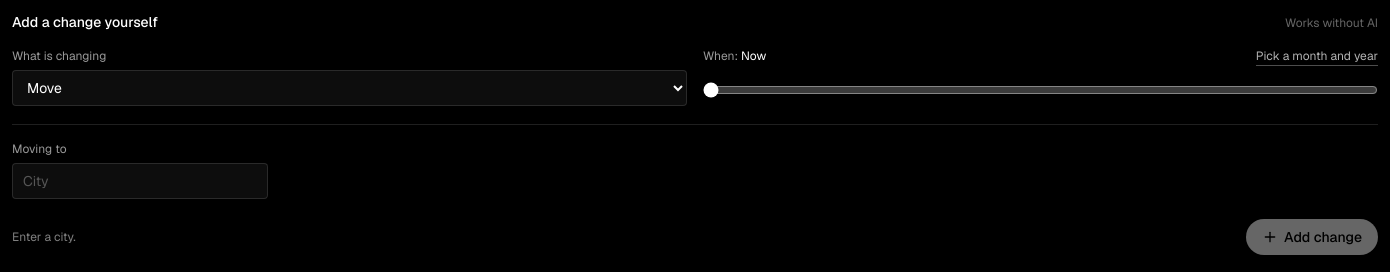
ManualEventForm: choosing a date as a month and year › says why a month cannot be used, and will not add it
The width and height of the screenshot is (1390, 272).
Type "Denver" into the field labelled "Moving to".
click(140, 181); type("Denver")  # box top-left (12, 163), bottom-right (268, 199)
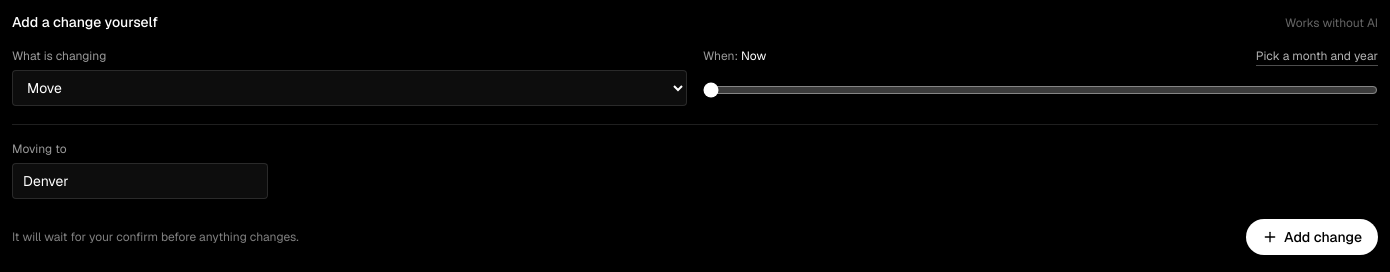
Click the button "Pick a month and year".
click(1317, 57)  # box top-left (1256, 48), bottom-right (1378, 66)
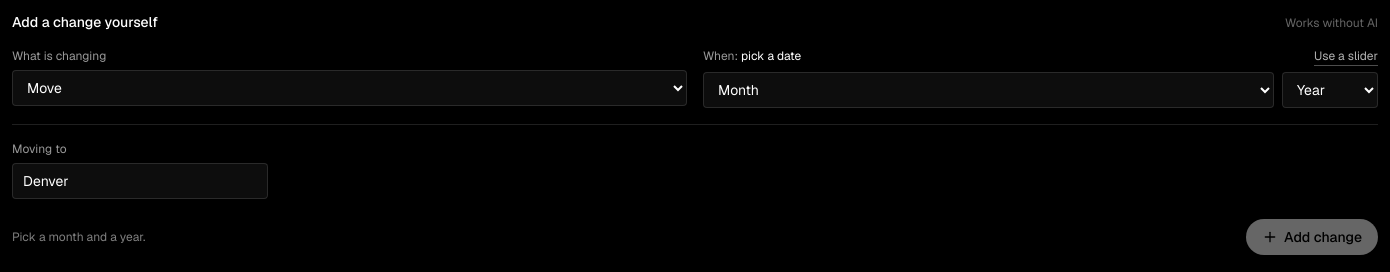
Select "September" in the dropdown named "Month" at (988, 90), box top-left (703, 72), bottom-right (1274, 108)
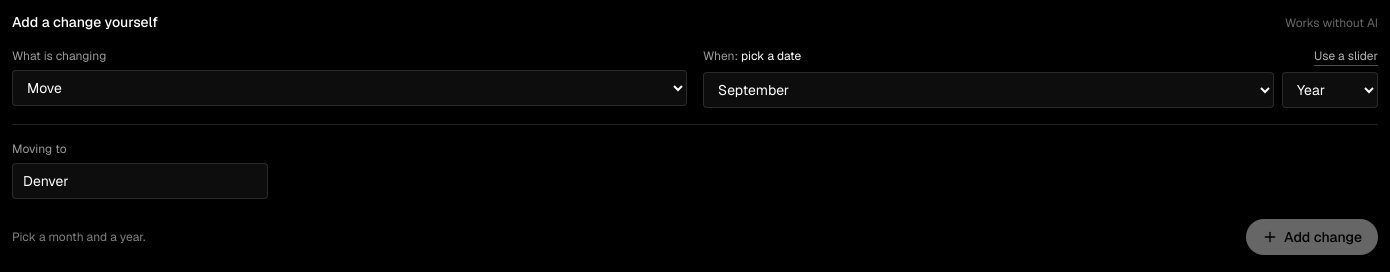
Select "2026" in the dropdown named "Year" at (1330, 90), box top-left (1282, 72), bottom-right (1378, 108)
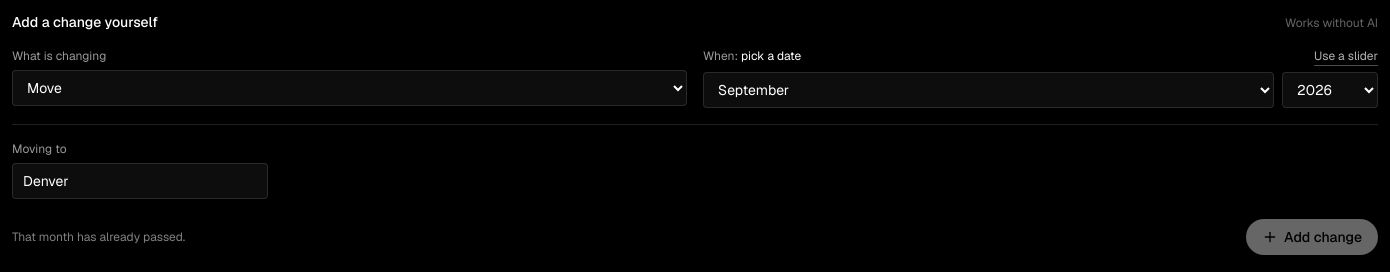
expect the button "Add change" is disabled: met, box top-left (1246, 219), bottom-right (1378, 255)
expect the message with test id "manual-hint" reads "That month has already passed.": met, box top-left (12, 229), bottom-right (185, 245)
Select "December" in the dropdown named "Month" at (988, 90), box top-left (703, 72), bottom-right (1274, 108)
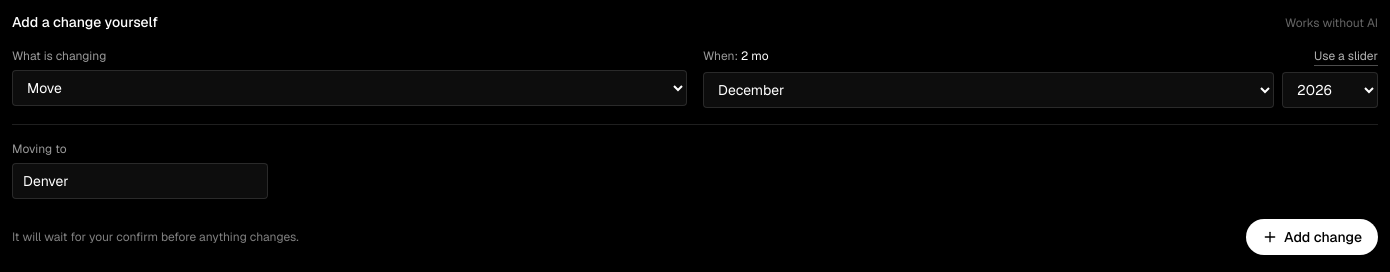
Select "2031" in the dropdown named "Year" at (1330, 90), box top-left (1282, 72), bottom-right (1378, 108)
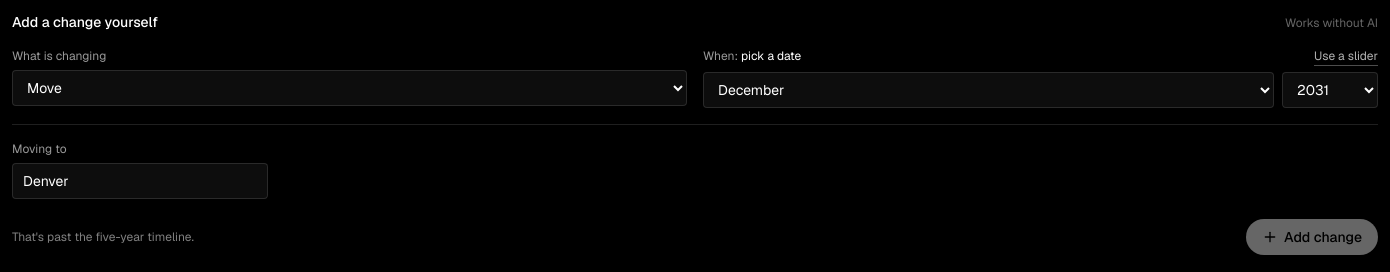
expect the message with test id "manual-hint" reads "That's past the five-year timeline.": met, box top-left (12, 229), bottom-right (194, 245)
expect the button "Add change" is disabled: met, box top-left (1246, 219), bottom-right (1378, 255)
